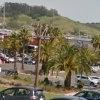Car: (3, 78, 49, 100)
